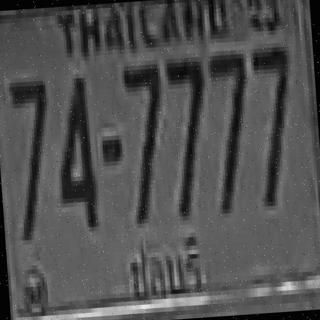N04: (52, 73, 96, 229)
N07: (207, 49, 254, 210), (121, 62, 168, 222), (163, 54, 210, 214), (250, 42, 297, 202), (7, 78, 54, 238), (8, 78, 51, 191)
P13: (122, 228, 210, 300)
